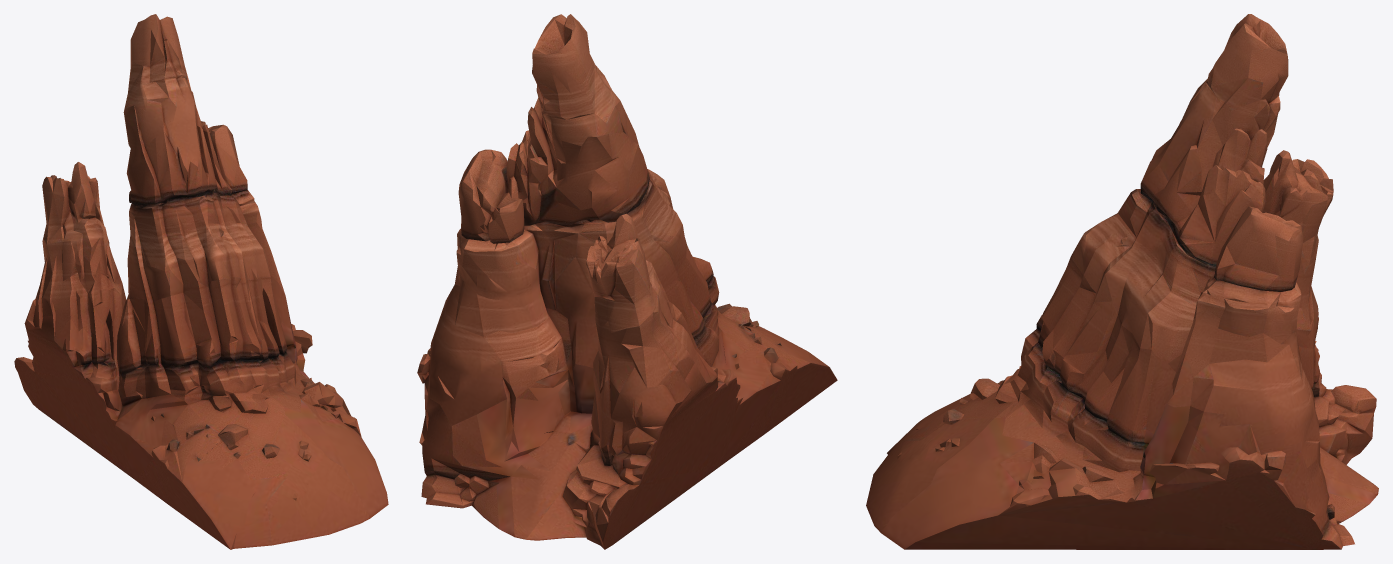
The model's file is p_mesa.glb.
The picture shows the model from 3 angles, left to right: view 1: azimuth 30°, elevation 25°; view 2: azimuth 150°, elevation 25°; view 3: azimuth 270°, elevation 25°; orthographic projection. The views are drawn at different scales.
Size of the model in its own units: 1.13 by 1.9 by 1.83.
1 material, 1 textured.
